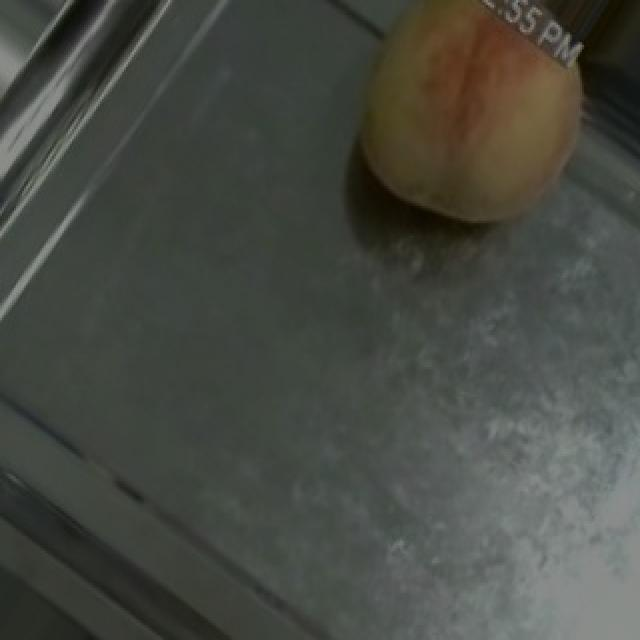Fruit: (308, 0, 618, 263)
